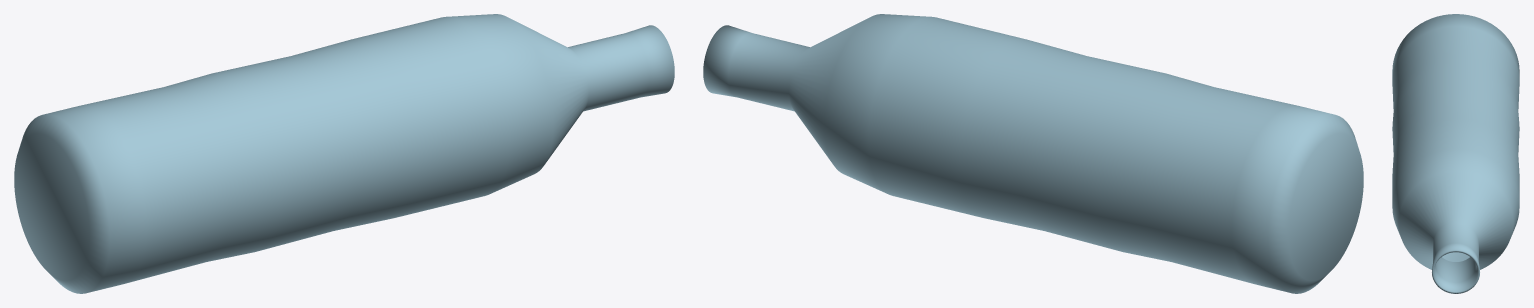
3 views of the same model, side by side, from view 1: azimuth 30°, elevation 25°; view 2: azimuth 150°, elevation 25°; view 3: azimuth 270°, elevation 25° (orthographic). The views are drawn at different scales.
Visible parts, largest first — view 1: B101; view 2: B101; view 3: B101.
Part boxes in pixels (left/top/right/bottom): B101: left=14, top=14, right=674, bottom=293; B101: left=703, top=14, right=1363, bottom=293; B101: left=1392, top=14, right=1519, bottom=293.
Bounding box in the file's own units: 21.3 × 5.6 × 5.6.
